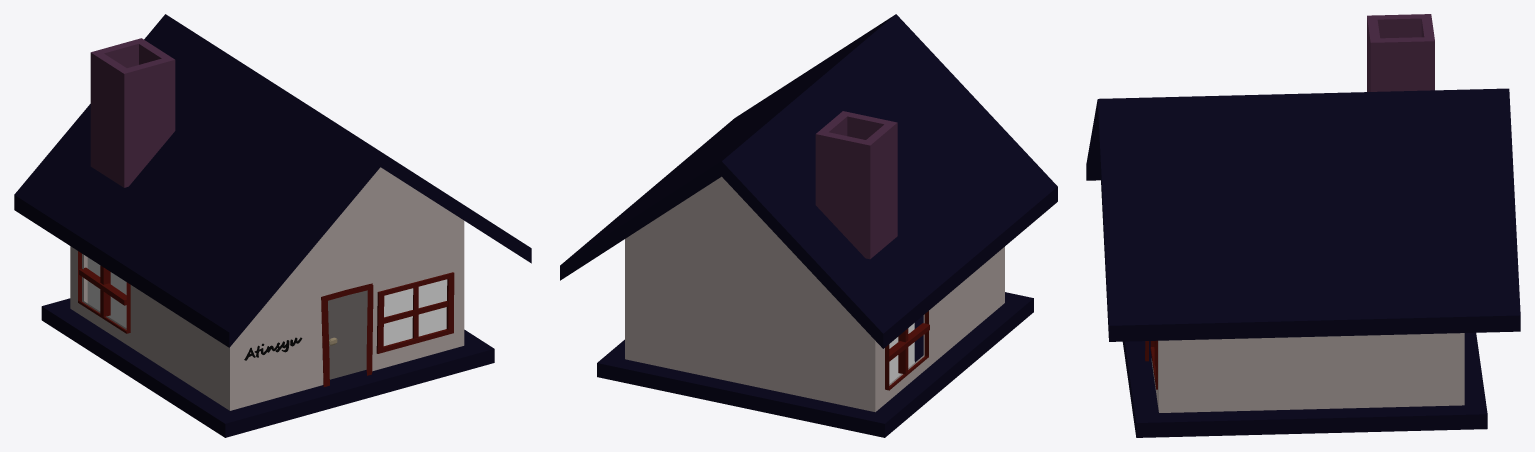
Rendered from house.fbx.
The picture shows the model from 3 angles, left to right: view 1: azimuth 30°, elevation 25°; view 2: azimuth 150°, elevation 25°; view 3: azimuth 270°, elevation 25°; orthographic projection. The views are drawn at different scales.
Visible parts, largest first — view 1: Cube.001, Cube, Cube.002, Plane.005, Plane, Cube.004, Cube.011, Plane.001, Cube.005, Cube.009; view 2: Cube.001, Cube, Cube.002, Cube.005, Plane.001, Cube.009; view 3: Cube.001, Cube, Cube.002.
Boxes of the visible parts, <box> form: Cube.001: <box>14,14,531,437</box>; Cube: <box>70,167,464,410</box>; Cube.002: <box>90,38,175,187</box>; Plane.005: <box>328,290,367,379</box>; Plane: <box>383,279,447,345</box>; Cube.004: <box>376,272,454,353</box>; Cube.011: <box>321,283,373,386</box>; Plane.001: <box>87,257,126,327</box>; Cube.005: <box>78,251,130,333</box>; Cube.009: <box>79,267,126,305</box>; Cube.001: <box>560,14,1057,437</box>; Cube: <box>625,176,1004,412</box>; Cube.002: <box>815,111,897,259</box>; Cube.005: <box>885,311,928,390</box>; Plane.001: <box>889,323,914,383</box>; Cube.009: <box>889,323,929,361</box>; Cube.001: <box>1086,88,1520,437</box>; Cube: <box>1151,333,1464,412</box>; Cube.002: <box>1367,14,1434,91</box>.
Bounding box in the file's own units: 274 × 214 × 293.
